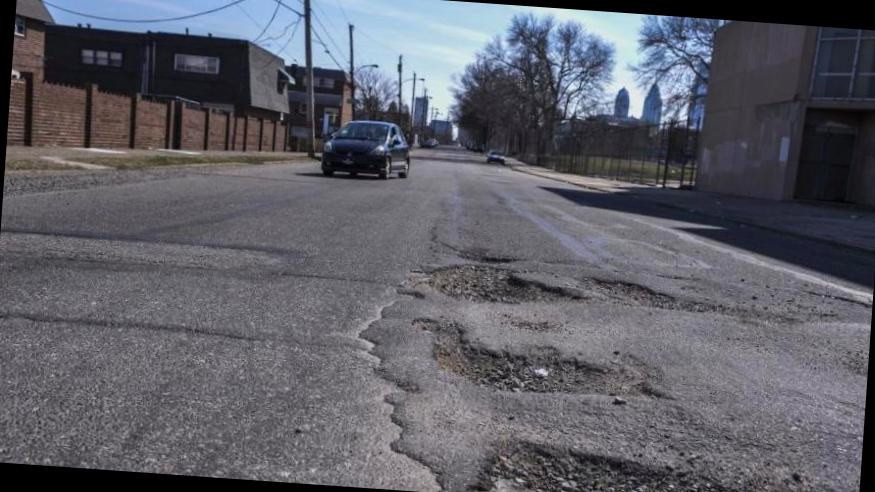pothole: (381, 308, 720, 427), (403, 220, 752, 333), (437, 424, 861, 492)
